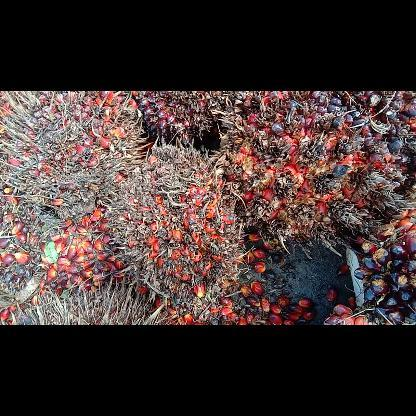Terlalu masak: (217, 90, 415, 252), (97, 136, 251, 320), (0, 90, 151, 226), (130, 90, 246, 150)
